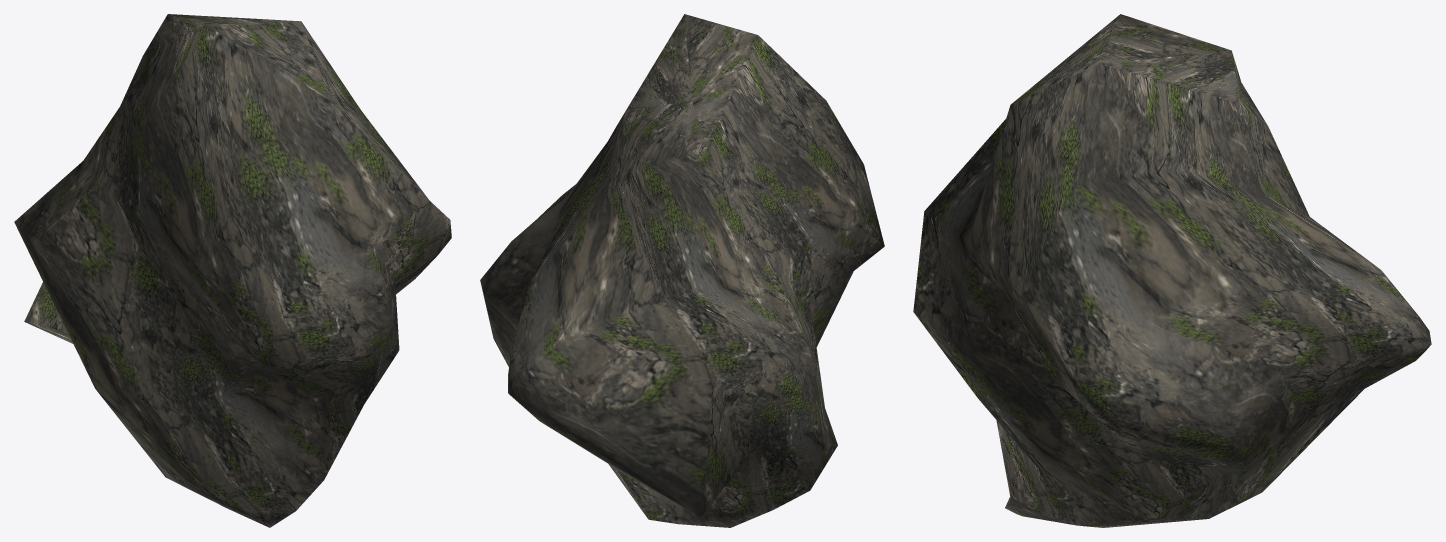
The model's file is fels2.FBX.
The picture shows the model from 3 angles, left to right: view 1: azimuth 30°, elevation 25°; view 2: azimuth 150°, elevation 25°; view 3: azimuth 270°, elevation 25°; orthographic projection. The views are drawn at different scales.
Visible parts, largest first — view 1: fels2; view 2: fels2; view 3: fels2.
Part boxes in pixels (box(x1,y1,x2,y2)): fels2: box(14, 14, 451, 527); fels2: box(480, 14, 884, 527); fels2: box(913, 14, 1431, 527).
Bounding box in the file's own units: 159 × 193 × 203.
Materials: 1 (1 with a texture image).
